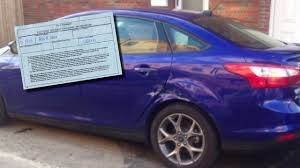Dent: (152, 75, 221, 104)
